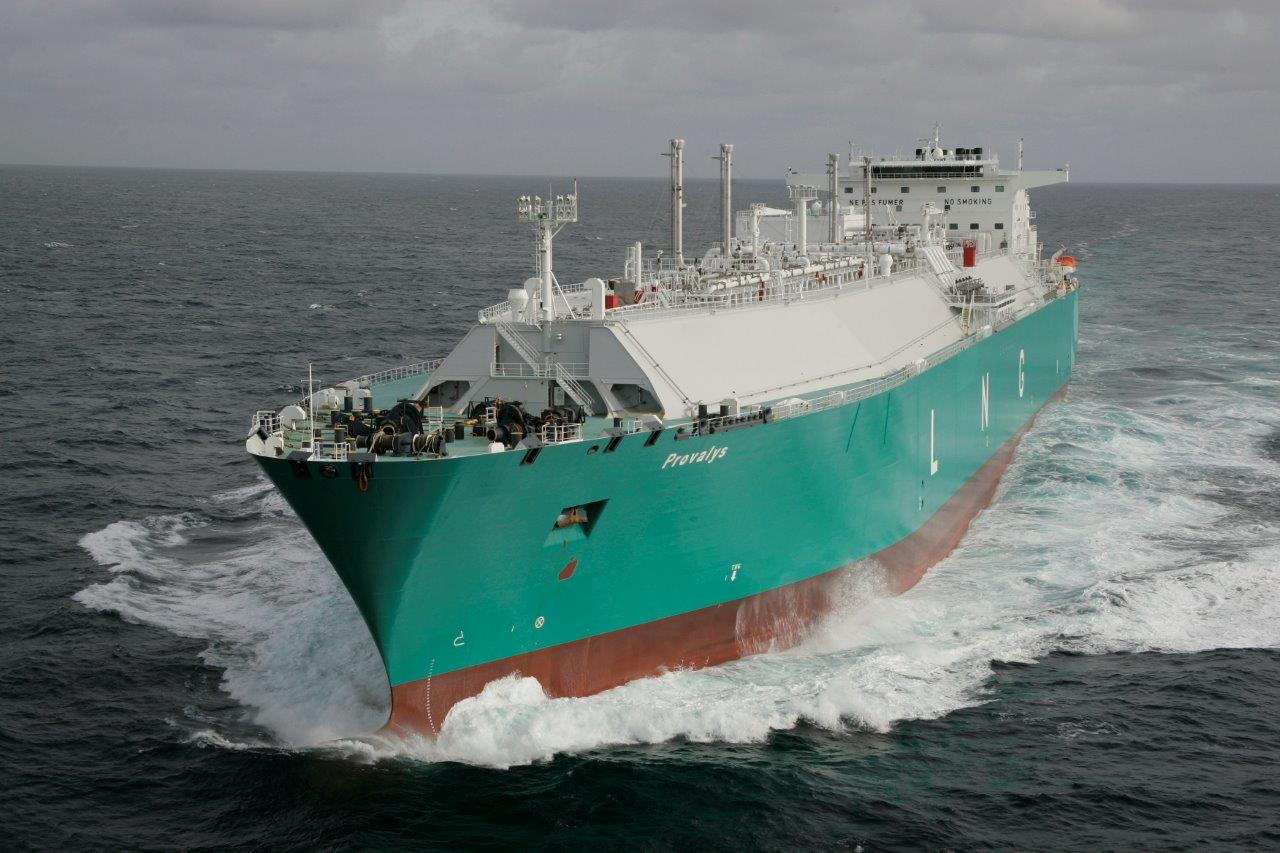Cargoship: (229, 124, 1086, 758)
